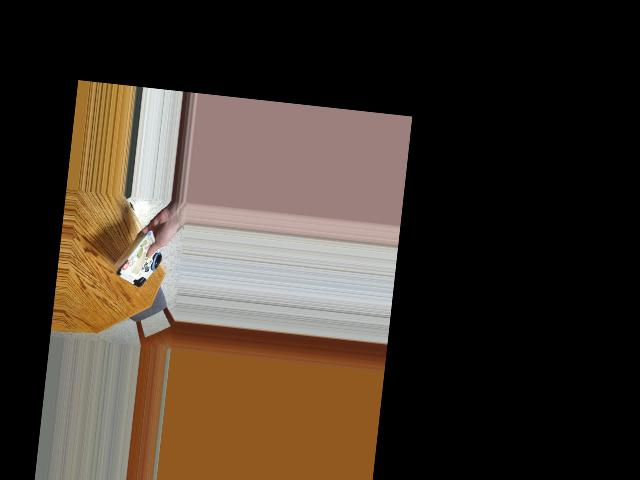cheese: (103, 230, 165, 293)
